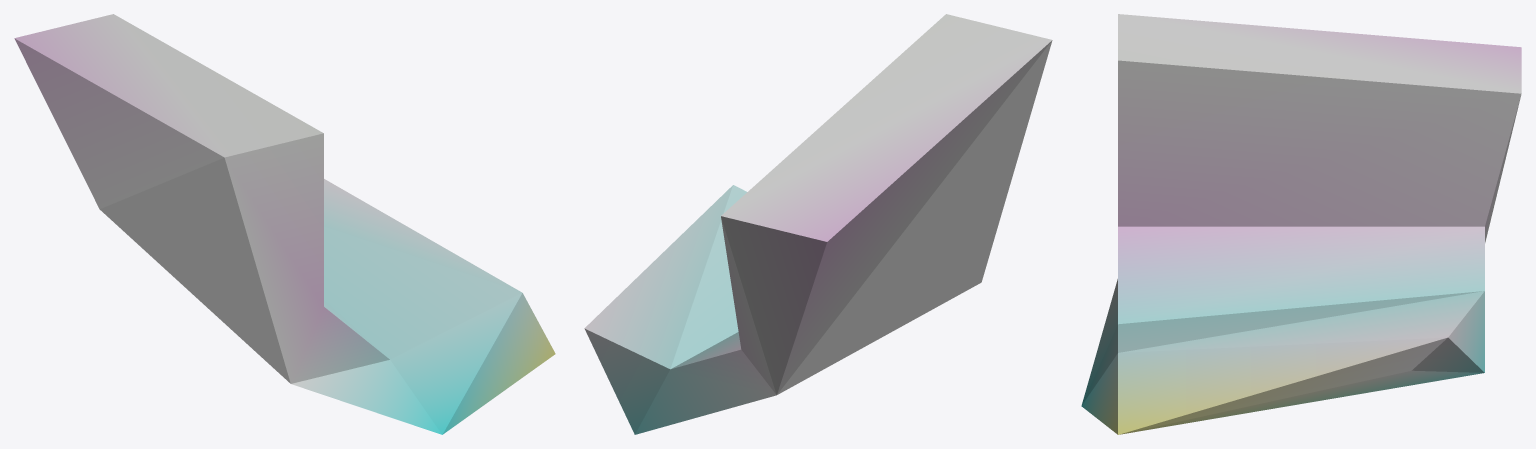
The picture shows the model from 3 angles, left to right: view 1: azimuth 30°, elevation 25°; view 2: azimuth 150°, elevation 25°; view 3: azimuth 270°, elevation 25°; orthographic projection. The views are drawn at different scales.
Parts seen in each view (by area): view 1: model_1105; view 2: model_1105; view 3: model_1105.
Part boxes in pixels (x1,y1,x2,y2): model_1105: [14, 14, 555, 434]; model_1105: [584, 14, 1052, 434]; model_1105: [1081, 14, 1521, 434].
Size of the model in its own units: 10 by 9 by 12.
